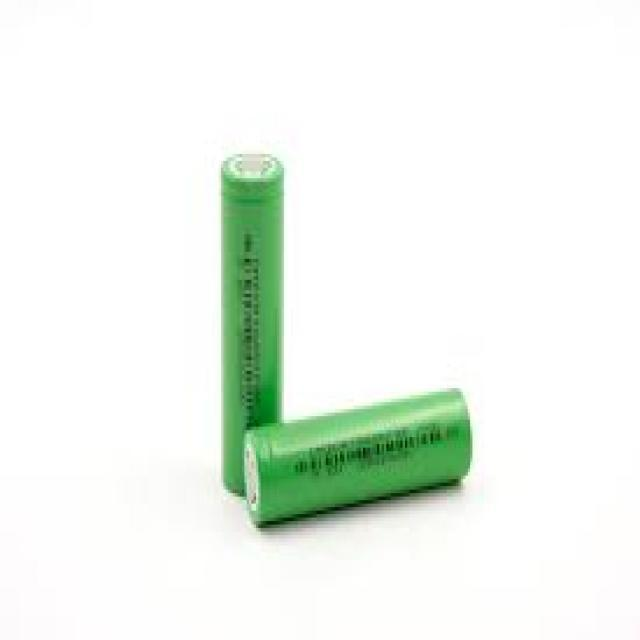battery: (243, 386, 476, 532), (216, 146, 282, 504)
